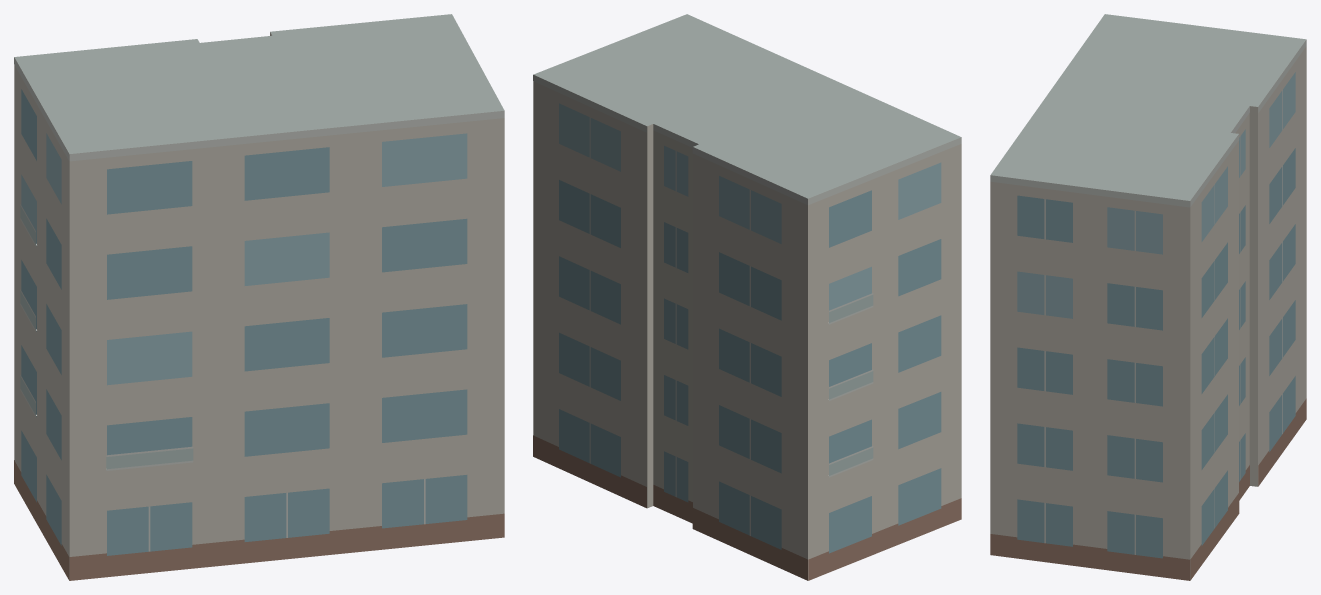
The model's file is survey-upis-32901713.glb.
3 views of the same model, side by side, from view 1: azimuth 30°, elevation 25°; view 2: azimuth 150°, elevation 25°; view 3: azimuth 270°, elevation 25° (orthographic). The views are drawn at different scales.
Parts seen in each view (by area): view 1: survey-upis-32901713.tmp; view 2: survey-upis-32901713.tmp; view 3: survey-upis-32901713.tmp.
Part boxes in pixels (x1=…): survey-upis-32901713.tmp: x1=14, y1=14, x2=504, y2=580; survey-upis-32901713.tmp: x1=533, y1=14, x2=961, y2=580; survey-upis-32901713.tmp: x1=990, y1=14, x2=1306, y2=580.
Size of the model in its own units: 15.06 by 14.25 by 10.76.
